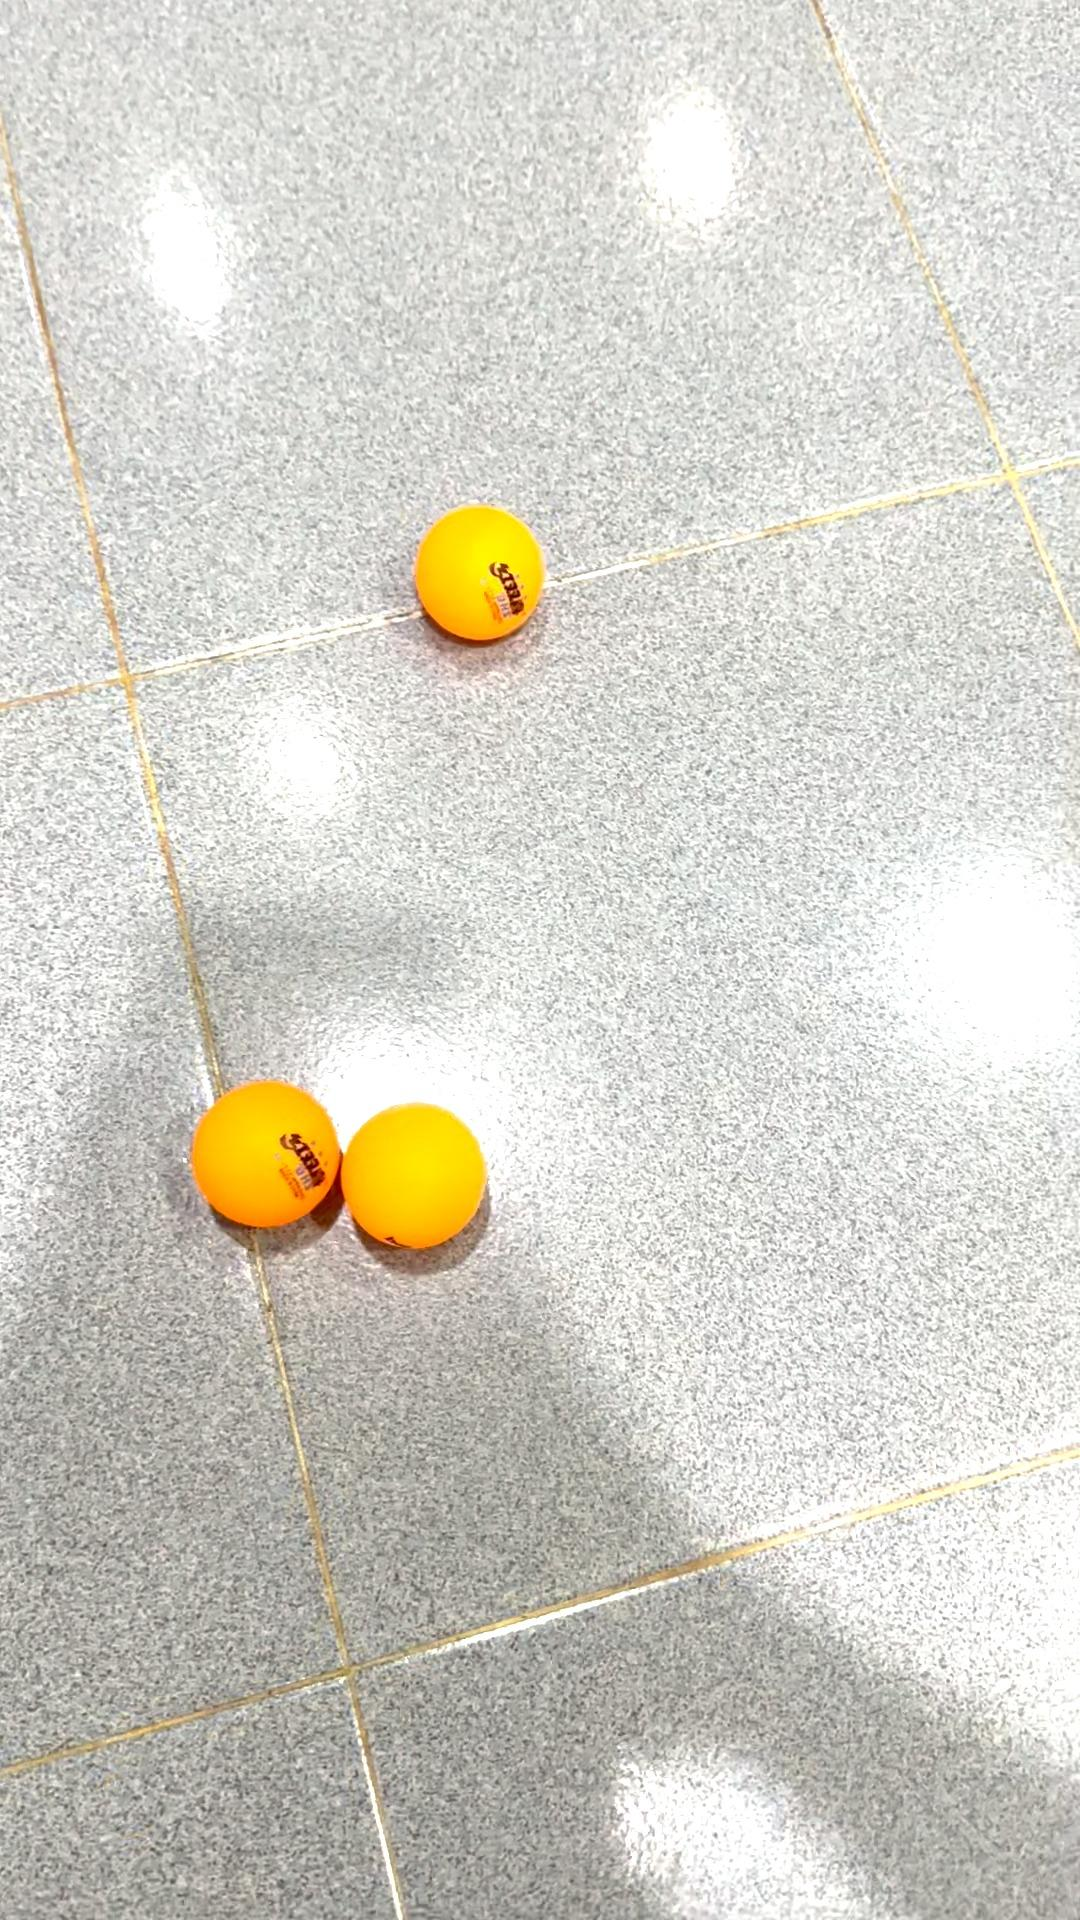oball: (185, 1067, 335, 1244), (348, 1101, 498, 1255), (411, 505, 551, 644)
